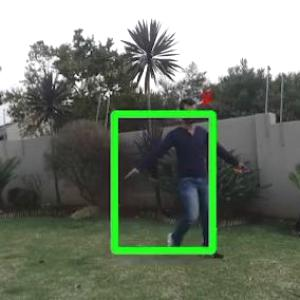land: (121, 98, 252, 259)
